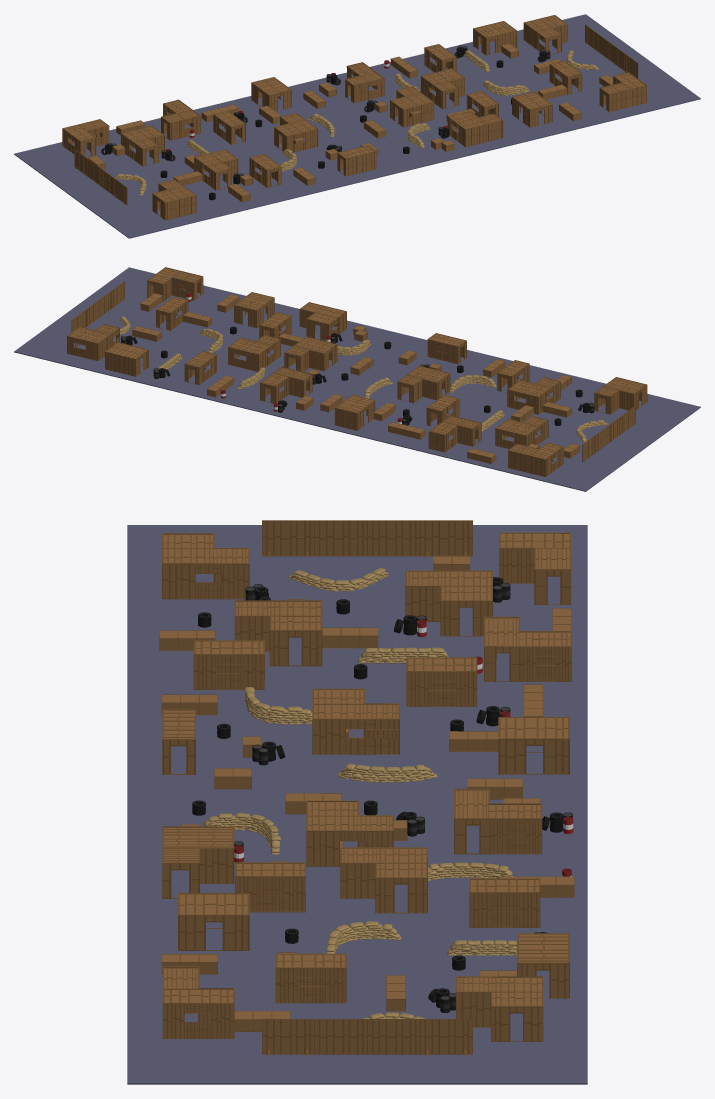
The model's file is Map3.fbx.
3 renders of one model, top to bottom at view 1: azimuth 30°, elevation 25°; view 2: azimuth 150°, elevation 25°; view 3: azimuth 270°, elevation 25°, orthographic. The views are drawn at different scales.
Visible parts, largest first — view 1: Cube, Plane_034; view 2: Plane_034, Cube; view 3: Cube, Plane_034.
Boxes of the visible parts, <box> form: Cube: <box>14,14,700,238</box>; Plane_034: <box>62,15,646,220</box>; Plane_034: <box>67,267,647,477</box>; Cube: <box>14,267,700,491</box>; Cube: <box>127,525,587,1084</box>; Plane_034: <box>159,520,574,1055</box>.
Size of the model in its own units: 20000 by 625 by 6975.
